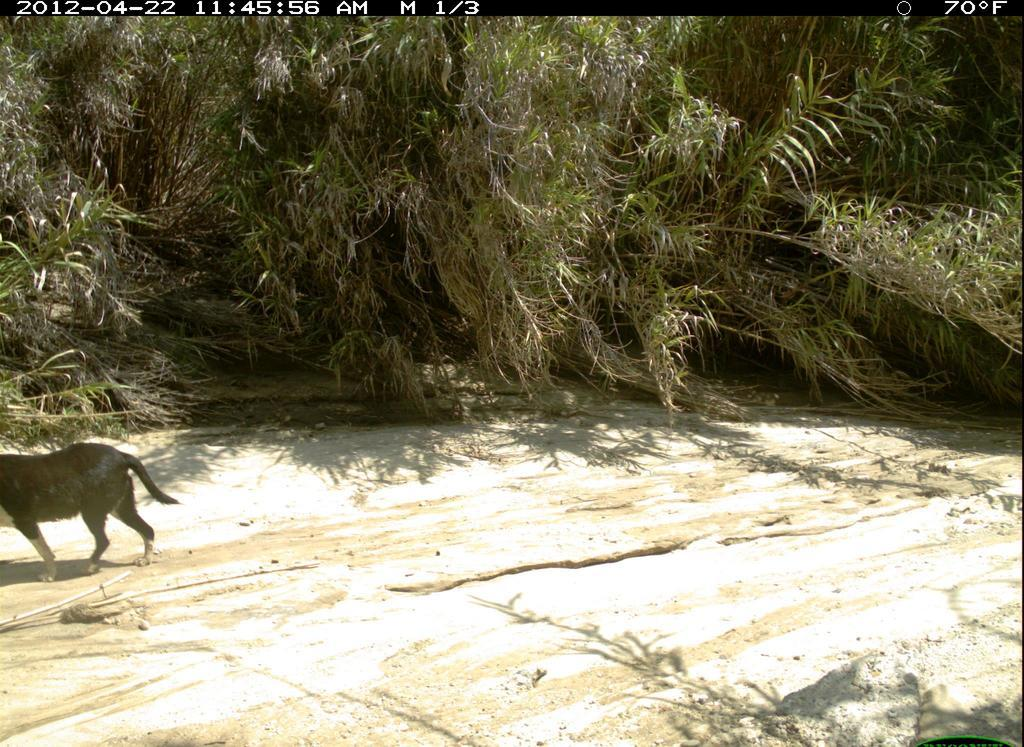dog: (1, 417, 186, 590)
